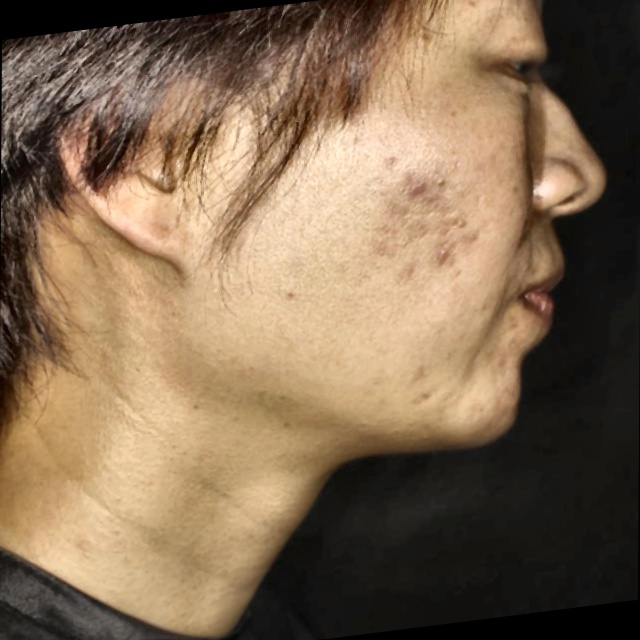comedone: (399, 159, 439, 211), (425, 239, 457, 273)
